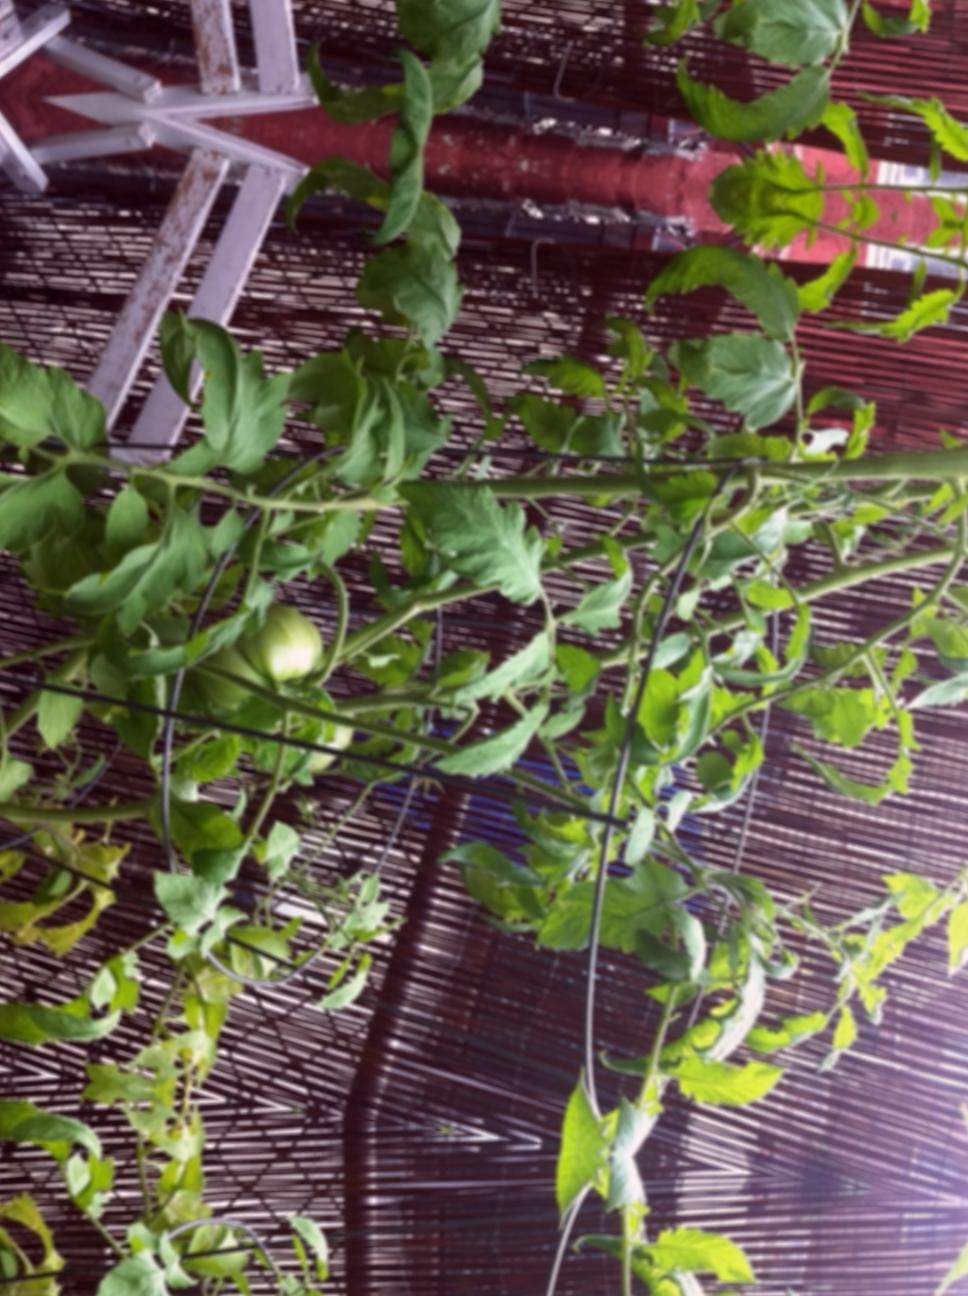Tomato leaf: (398, 469, 569, 621), (631, 316, 805, 444), (520, 859, 688, 983), (179, 320, 285, 472), (427, 671, 560, 790), (0, 340, 67, 451), (0, 465, 66, 571)
